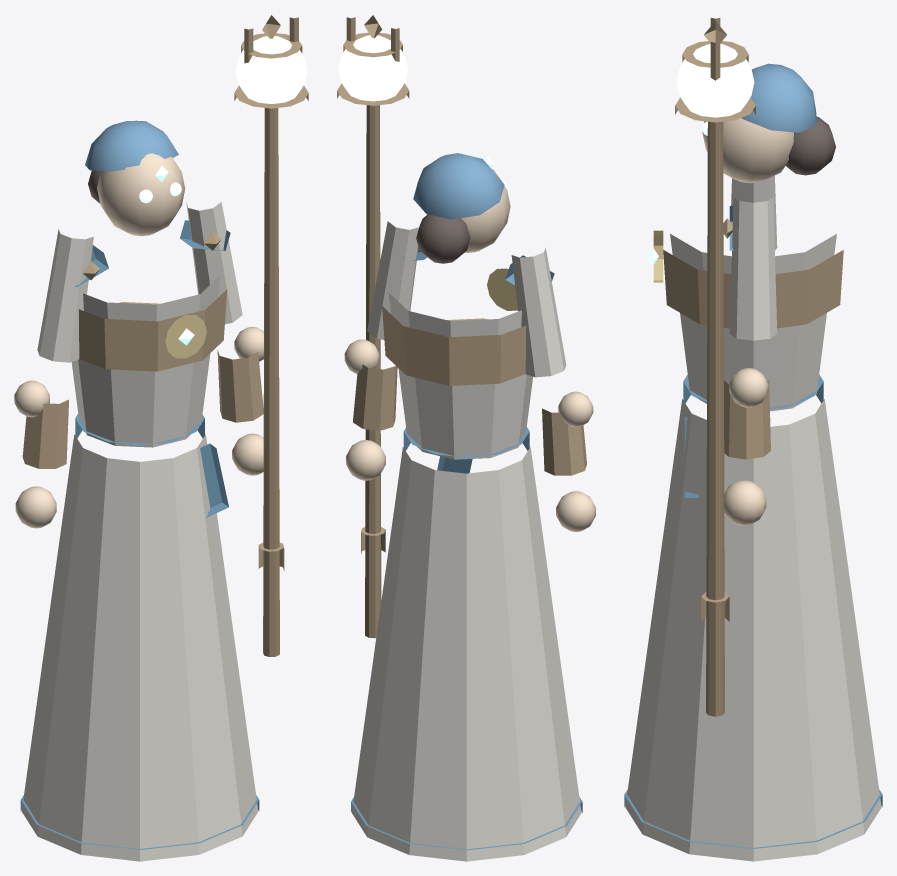
File: aria.glb
The picture shows the model from 3 angles, left to right: view 1: azimuth 30°, elevation 25°; view 2: azimuth 150°, elevation 25°; view 3: azimuth 270°, elevation 25°; orthographic projection. The views are drawn at different scales.
Visible parts, largest first — view 1: aria_body, aria_weapon; view 2: aria_body, aria_weapon; view 3: aria_body, aria_weapon.
Part boxes in pixels (<box>): aria_body: <box>14,120,263,861</box>; aria_weapon: <box>234,15,308,656</box>; aria_body: <box>344,153,595,861</box>; aria_weapon: <box>337,15,409,638</box>; aria_body: <box>624,63,882,861</box>; aria_weapon: <box>675,18,755,716</box>.
Bounding box in the file's own units: 0.7168 × 1.99 × 0.544.
